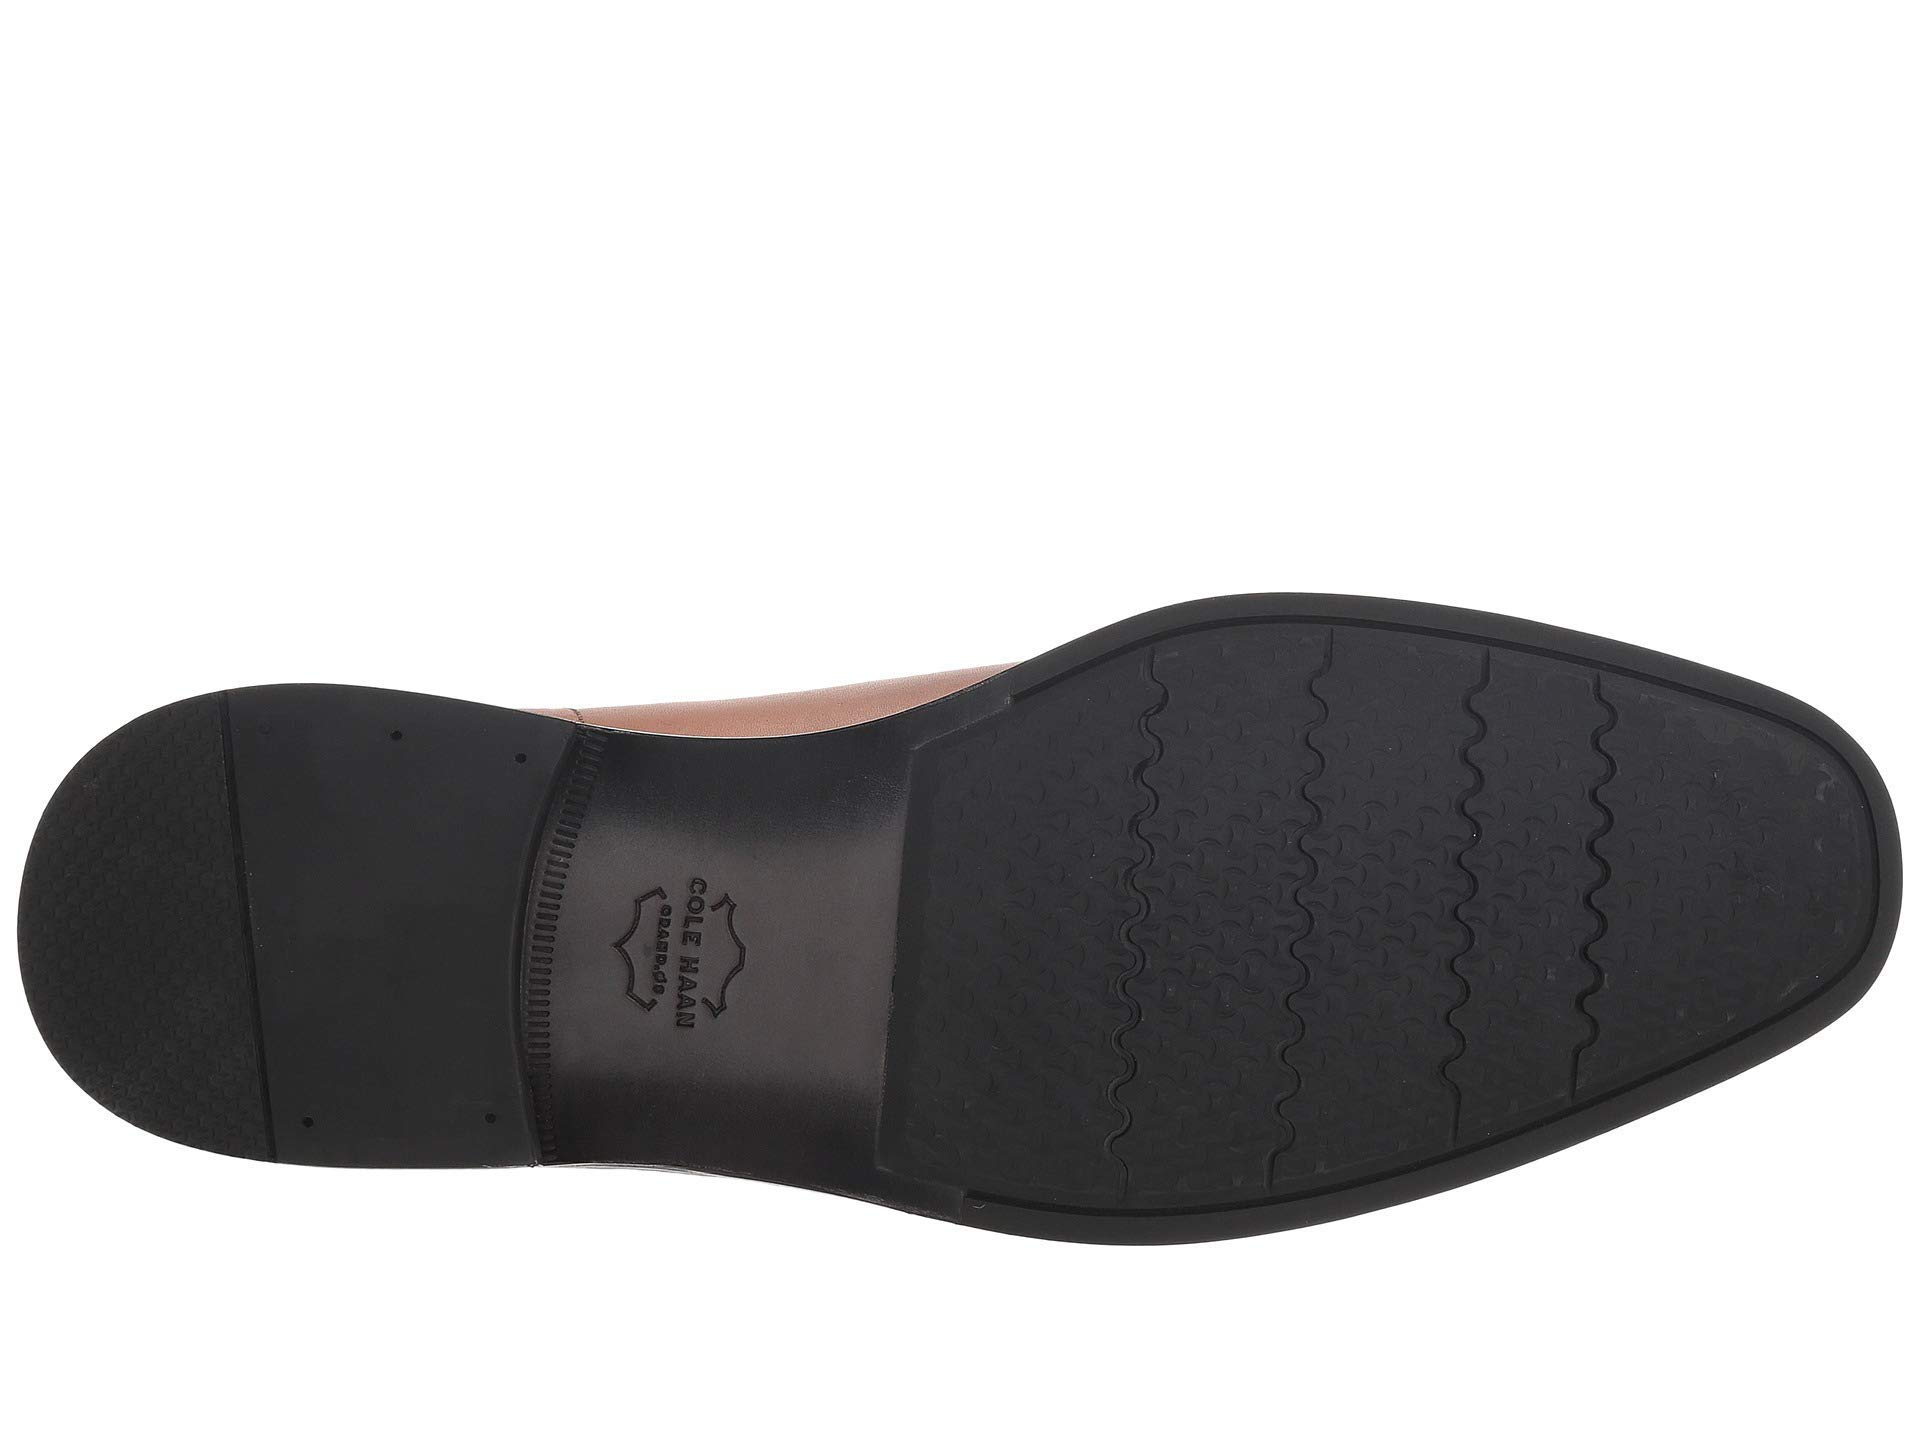chevron: (1042, 712, 1692, 1109)
circle: (367, 709, 547, 787), (458, 1103, 517, 1147)
exclude: (514, 729, 946, 1221)
line: (172, 734, 363, 1119)
